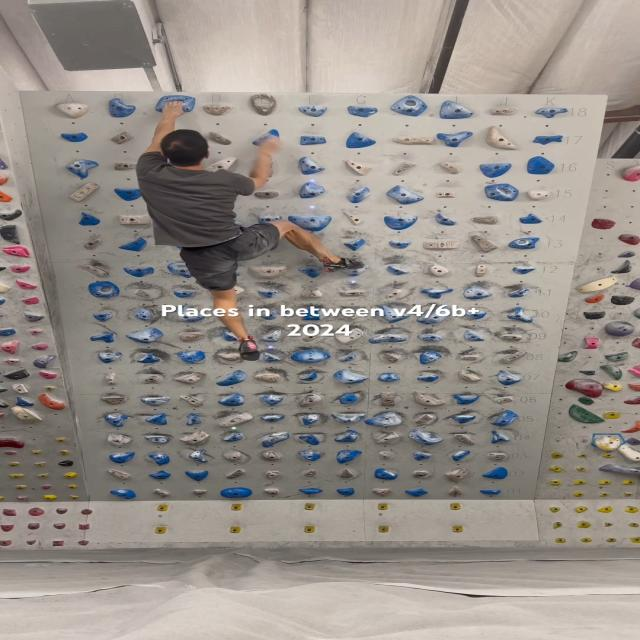A1: (110, 488, 136, 499)
A10: (93, 311, 114, 322)
A11: (88, 281, 120, 298)
A12: (80, 264, 108, 278)
A13: (83, 238, 102, 250)
A14: (78, 212, 100, 226)
A15: (69, 180, 101, 202)
A16: (66, 158, 100, 178)
A17: (60, 132, 88, 142)
A18: (54, 102, 90, 119)
A2: (107, 469, 131, 481)
A3: (108, 451, 136, 464)
A4: (106, 432, 132, 446)
A5: (105, 414, 128, 426)
A6: (101, 396, 125, 405)
A7: (105, 372, 118, 386)
A8: (98, 351, 123, 363)
A9: (91, 332, 115, 343)
B1: (152, 488, 170, 498)
B10: (132, 308, 152, 321)
B11: (134, 290, 151, 298)
B12: (123, 267, 155, 277)
B13: (119, 236, 148, 252)
B14: (118, 214, 152, 225)
B15: (113, 187, 145, 201)
B16: (113, 161, 138, 171)
B17: (111, 131, 135, 145)
B18: (108, 98, 136, 118)
B2: (149, 470, 172, 480)
B3: (148, 453, 171, 465)
B4: (144, 435, 170, 444)
B5: (146, 413, 168, 425)
B6: (139, 396, 170, 406)
B7: (140, 374, 166, 385)
B8: (137, 352, 161, 363)
B9: (126, 327, 163, 344)
C1: (192, 490, 206, 496)
C11: (174, 290, 198, 298)
C2: (184, 470, 210, 482)
C3: (188, 449, 209, 463)
C4: (180, 430, 211, 446)
C5: (184, 414, 202, 426)
C6: (180, 394, 204, 408)
C7: (172, 372, 205, 386)
C8: (178, 349, 206, 364)
C9: (179, 332, 206, 342)
D1: (220, 488, 253, 498)
D17: (205, 132, 233, 146)
D18: (201, 105, 233, 116)
D2: (226, 470, 246, 480)
D3: (226, 452, 242, 461)
D4: (222, 432, 245, 442)
D5: (217, 411, 253, 428)
D6: (217, 392, 246, 407)
D7: (215, 369, 249, 386)
E1: (263, 488, 279, 496)
E11: (258, 290, 280, 299)
E12: (250, 266, 290, 280)
E15: (254, 192, 278, 198)
E18: (248, 94, 277, 116)
E2: (265, 470, 282, 480)
E3: (262, 451, 282, 462)
E4: (260, 432, 290, 448)
E5: (260, 414, 284, 422)
E6: (259, 393, 284, 406)
E7: (253, 373, 280, 382)
E8: (262, 352, 282, 363)
E9: (259, 329, 284, 343)
F: (156, 503, 169, 511), (154, 526, 167, 534), (451, 525, 464, 533), (231, 503, 243, 511), (304, 503, 316, 511), (229, 526, 242, 533), (378, 525, 389, 533), (304, 526, 316, 533), (449, 503, 461, 510), (377, 503, 388, 510)
F1: (299, 488, 324, 494)
F11: (301, 288, 323, 298)
F12: (298, 266, 322, 278)
F15: (299, 182, 326, 198)
F16: (298, 156, 325, 175)
F17: (300, 135, 326, 146)
F18: (297, 106, 328, 117)
F2: (304, 470, 318, 477)
F3: (298, 451, 323, 462)
F4: (297, 434, 320, 446)
F5: (300, 414, 320, 425)
F6: (296, 393, 322, 408)
F7: (298, 371, 319, 382)
F8: (289, 349, 331, 363)
G1: (336, 487, 355, 496)
G11: (339, 290, 366, 297)
G13: (343, 238, 365, 251)
G14: (342, 212, 363, 226)
G15: (347, 187, 371, 204)
G16: (344, 158, 372, 175)
G17: (346, 132, 377, 149)
G18: (347, 105, 378, 118)
G2: (340, 469, 353, 478)
G3: (337, 449, 364, 464)
G4: (333, 430, 358, 443)
G5: (331, 412, 365, 425)
G6: (339, 393, 361, 405)
G7: (332, 368, 368, 385)
G8: (336, 352, 359, 363)
H1: (372, 488, 391, 495)
H11: (385, 289, 403, 300)
H12: (386, 266, 409, 276)
H13: (389, 240, 412, 249)
H14: (384, 216, 418, 230)
H15: (384, 184, 424, 204)
H16: (393, 161, 417, 176)
H17: (392, 136, 434, 146)
H18: (391, 95, 429, 116)
H2: (375, 468, 398, 480)
H3: (378, 451, 392, 461)
H4: (375, 432, 400, 444)
H5: (365, 412, 402, 428)
H6: (378, 392, 397, 407)
H7: (377, 372, 401, 382)
H8: (382, 353, 400, 363)
H9: (366, 332, 407, 344)
I1: (404, 487, 428, 497)
I11: (420, 288, 454, 299)
I12: (428, 264, 450, 277)
I13: (422, 242, 460, 250)
I14: (435, 213, 457, 226)
I15: (437, 192, 457, 199)
I16: (438, 162, 461, 176)
I17: (436, 130, 473, 148)
I18: (439, 100, 473, 120)
I2: (411, 471, 428, 478)
I3: (413, 452, 432, 462)
I4: (408, 428, 444, 446)
I5: (415, 414, 435, 424)
I6: (412, 390, 446, 407)
I7: (416, 374, 440, 382)
I8: (419, 351, 443, 365)
I9: (417, 333, 445, 342)
J1: (447, 486, 462, 496)
J11: (463, 286, 492, 300)
J12: (475, 264, 487, 278)
J13: (471, 235, 498, 253)
J14: (471, 216, 499, 224)
J15: (485, 183, 519, 201)
J16: (479, 162, 512, 177)
J17: (485, 126, 519, 150)
J18: (490, 108, 518, 116)
J2: (444, 467, 471, 482)
J3: (451, 450, 471, 462)
J4: (454, 434, 476, 445)
J5: (451, 415, 477, 423)
J6: (453, 393, 480, 405)
J7: (457, 370, 482, 382)
J8: (459, 355, 478, 361)
J9: (462, 330, 484, 341)
K1: (479, 489, 501, 495)
K10: (507, 306, 534, 323)
K11: (508, 288, 530, 298)
K12: (512, 266, 536, 274)
K13: (507, 238, 540, 250)
K14: (518, 213, 543, 224)
K15: (527, 189, 552, 201)
K16: (526, 156, 555, 175)
K17: (533, 134, 563, 144)
K18: (534, 108, 570, 119)
K2: (482, 466, 509, 479)
K3: (486, 453, 506, 461)
K4: (491, 430, 511, 444)
K5: (491, 409, 518, 427)
K6: (494, 395, 514, 403)
K7: (497, 370, 522, 386)
K8: (498, 350, 527, 364)
K9: (500, 335, 522, 341)
